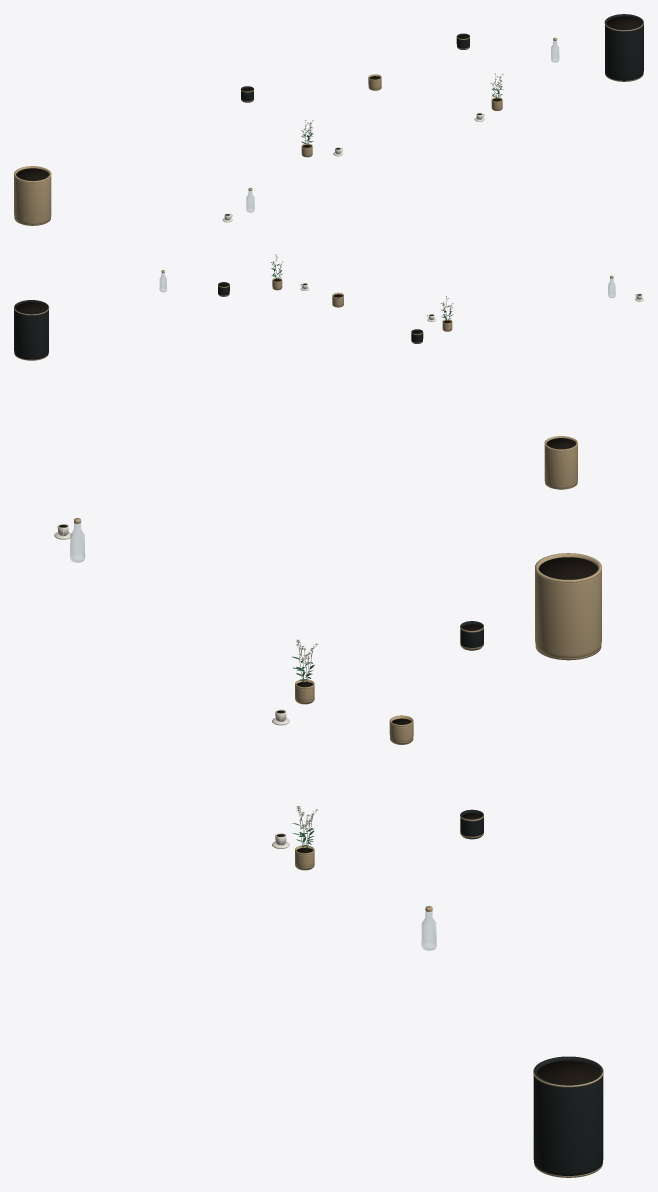
File: projection-interior-details-v11.glb
The picture shows the model from 3 angles, top to bottom: view 1: azimuth 30°, elevation 25°; view 2: azimuth 150°, elevation 25°; view 3: azimuth 270°, elevation 25°; orthographic projection. The views are drawn at different scales.
Visible parts, largest first — view 1: Projection Interior V11 | soft satin champagne metal details, Projection Interior V11 | black satin ceramic planter body, Projection Interior V11 | dark granular planting soil, Projection Interior V11 | clear glass drinking vessels; view 2: Projection Interior V11 | soft satin champagne metal details, Projection Interior V11 | black satin ceramic planter body, Projection Interior V11 | dark granular planting soil; view 3: Projection Interior V11 | soft satin champagne metal details, Projection Interior V11 | black satin ceramic planter body, Projection Interior V11 | dark granular planting soil, Projection Interior V11 | clear glass drinking vessels.
Part boxes in pixels (<box>): Projection Interior V11 | soft satin champagne metal details: <box>14,18,643,225</box>; Projection Interior V11 | black satin ceramic planter body: <box>241,14,643,102</box>; Projection Interior V11 | dark granular planting soil: <box>16,16,641,180</box>; Projection Interior V11 | clear glass drinking vessels: <box>246,41,559,212</box>; Projection Interior V11 | soft satin champagne metal details: <box>14,270,613,489</box>; Projection Interior V11 | black satin ceramic planter body: <box>14,282,423,359</box>; Projection Interior V11 | dark granular planting soil: <box>16,279,576,449</box>; Projection Interior V11 | soft satin champagne metal details: <box>74,518,603,1177</box>; Projection Interior V11 | black satin ceramic planter body: <box>460,621,603,1175</box>; Projection Interior V11 | dark granular planting soil: <box>296,557,599,1084</box>; Projection Interior V11 | clear glass drinking vessels: <box>70,523,436,950</box>.
Bounding box in the file's own units: 8.13 × 1.38 × 3.46.
